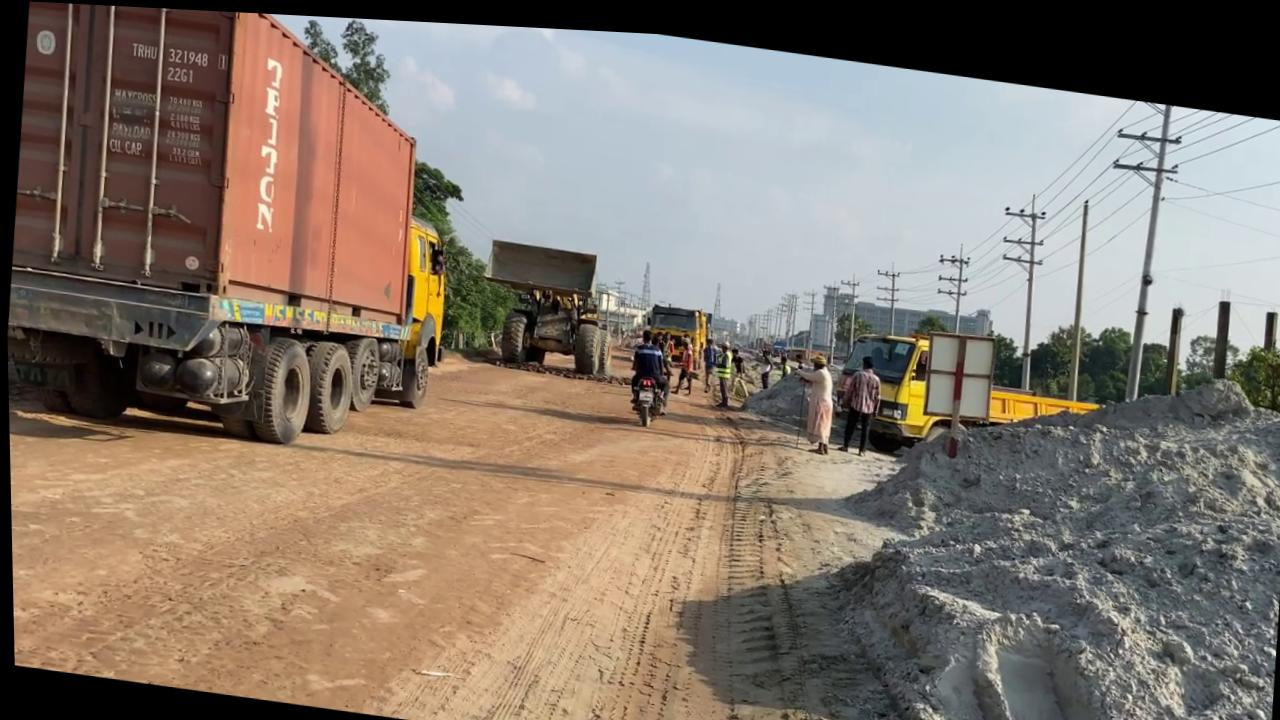Motorcycle: (624, 359, 670, 423)
Muddy road: (5, 262, 946, 720)
Pole: (1116, 89, 1177, 393), (133, 5, 178, 276), (1061, 185, 1093, 391)
Tree: (0, 0, 472, 463), (828, 306, 1107, 469), (472, 232, 610, 371), (634, 292, 713, 365), (778, 336, 810, 372)
